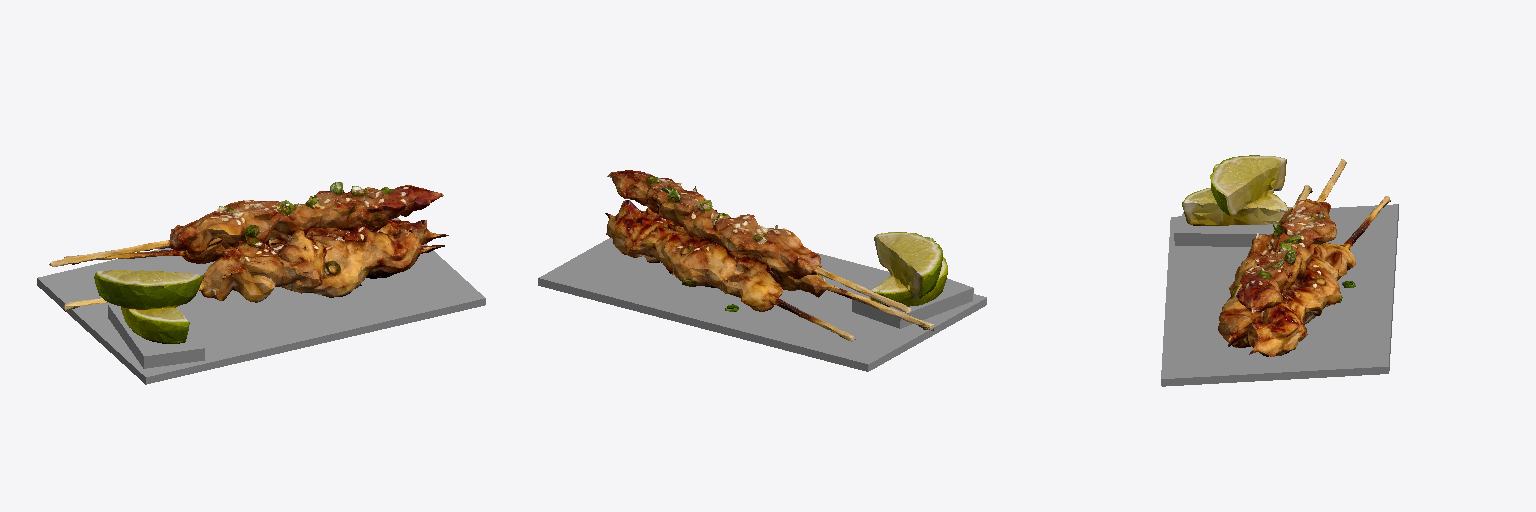
3 renders of one model, left to right at view 1: azimuth 30°, elevation 25°; view 2: azimuth 150°, elevation 25°; view 3: azimuth 270°, elevation 25°, orthographic.
Visible parts, largest first — view 1: default.001_default.002, Cube.002, Cube.001; view 2: default.001_default.002, Cube.002, Cube.001; view 3: Cube.002, default.001_default.002, Cube.001.
Boxes of the visible parts, x1=… form: default.001_default.002: x1=49, y1=182, x2=448, y2=343; Cube.002: x1=37, y1=217, x2=485, y2=384; Cube.001: x1=108, y1=304, x2=204, y2=368; default.001_default.002: x1=605, y1=170, x2=947, y2=341; Cube.002: x1=538, y1=238, x2=986, y2=371; Cube.001: x1=852, y1=278, x2=973, y2=328; Cube.002: x1=1161, y1=204, x2=1398, y2=386; default.001_default.002: x1=1182, y1=155, x2=1390, y2=356; Cube.001: x1=1174, y1=207, x2=1292, y2=246.
Bounding box in the file's own units: 19.59 × 5.12 × 11.33.
Materials: 3 (1 with a texture image).